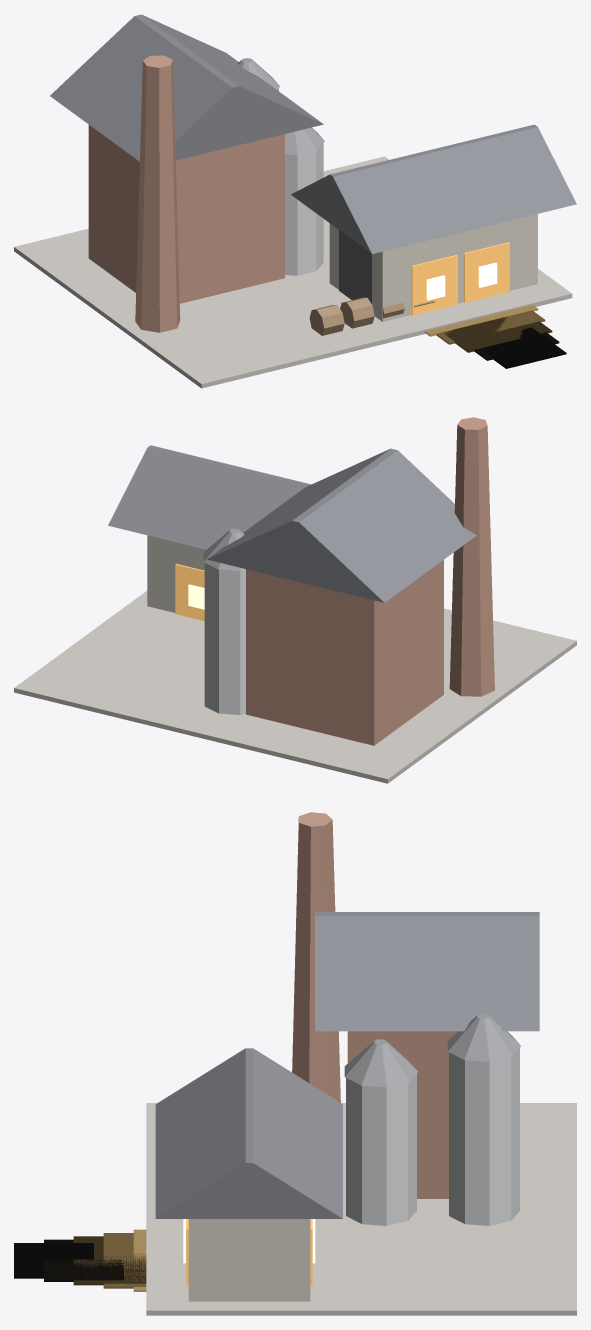
The model's file is plc_brewery.glb.
3 renders of one model, top to bottom at view 1: azimuth 30°, elevation 25°; view 2: azimuth 150°, elevation 25°; view 3: azimuth 270°, elevation 25°, orthographic. The views are drawn at different scales.
Visible parts, largest first — view 1: plc_brewery; view 2: plc_brewery; view 3: plc_brewery.
Boxes of the visible parts, <box> form: plc_brewery: <box>14,14,576,388</box>; plc_brewery: <box>14,417,576,783</box>; plc_brewery: <box>14,812,576,1315</box>.
Bounding box in the file's own units: 1.83 × 1.22 × 2.04.
